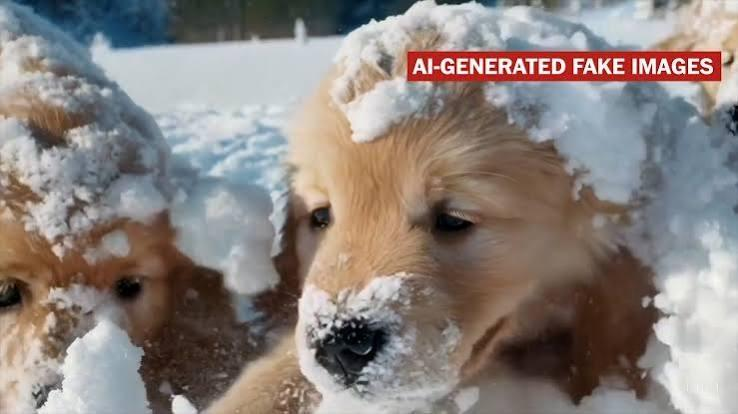puppy-dog: (232, 3, 738, 414), (1, 20, 236, 414)
